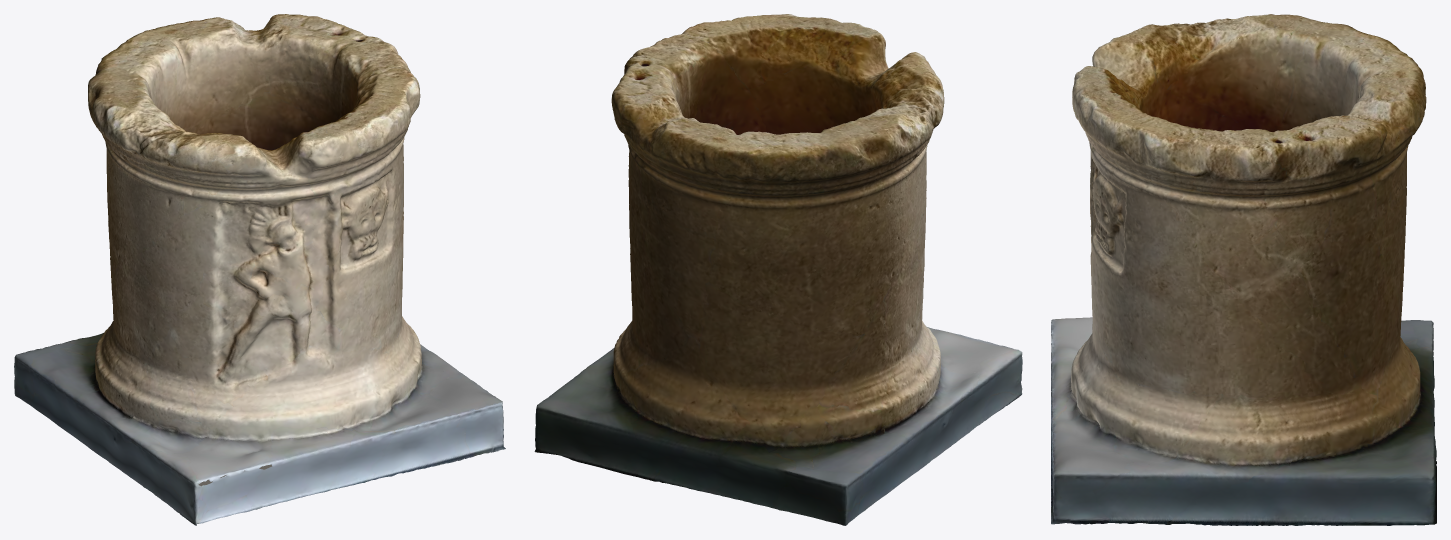
File: vera_di_pozzo.glb
The picture shows the model from 3 angles, left to right: view 1: azimuth 30°, elevation 25°; view 2: azimuth 150°, elevation 25°; view 3: azimuth 270°, elevation 25°; orthographic projection. The views are drawn at different scales.
Parts seen in each view (by area): view 1: Node1; view 2: Node1; view 3: Node1.
Part boxes in pixels (<box>): Node1: <box>14,14,505,525</box>; Node1: <box>534,14,1022,525</box>; Node1: <box>1051,14,1436,525</box>.
Bounding box in the file's own units: 27040 × 28362 × 27081.
1 material, 1 textured.
